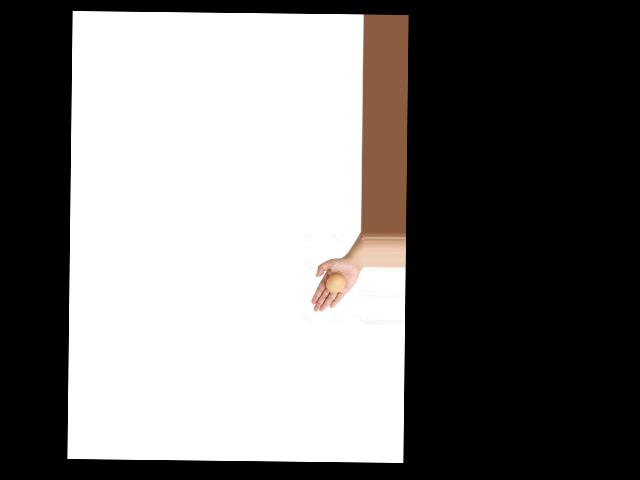egg: (326, 272, 345, 292)
